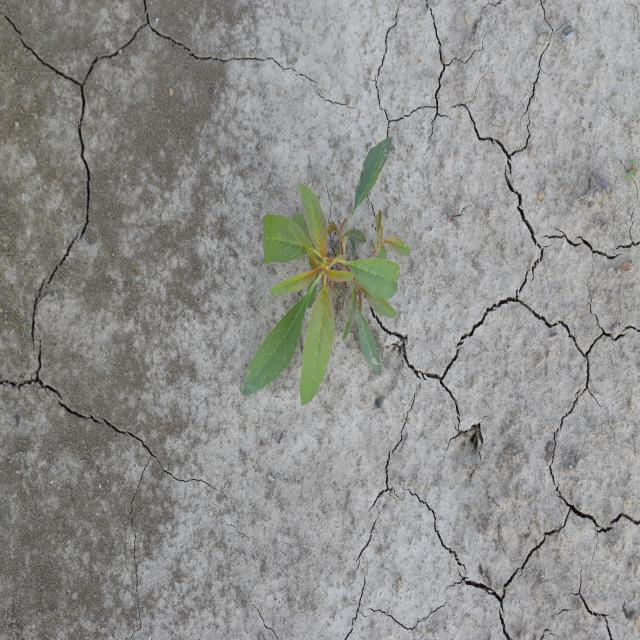Waterhemp: (240, 134, 412, 407)
